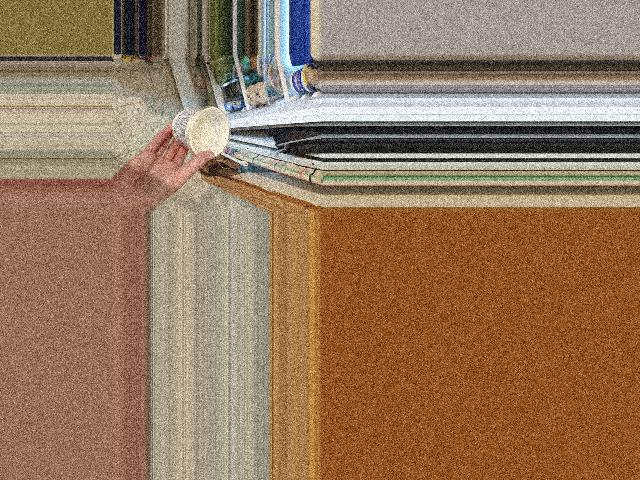cotage: (171, 110, 226, 156)
